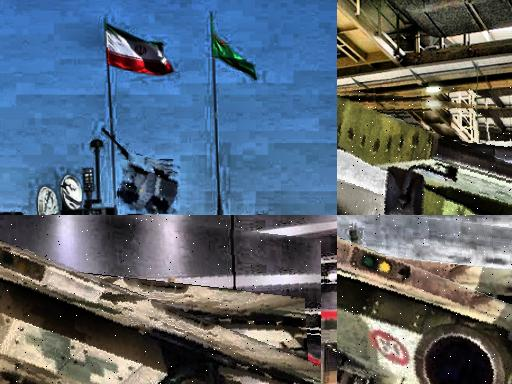tanks: (1, 237, 322, 384), (338, 235, 512, 384), (338, 95, 512, 216), (120, 162, 178, 216), (62, 185, 112, 216), (1, 214, 29, 216), (45, 213, 49, 216)
